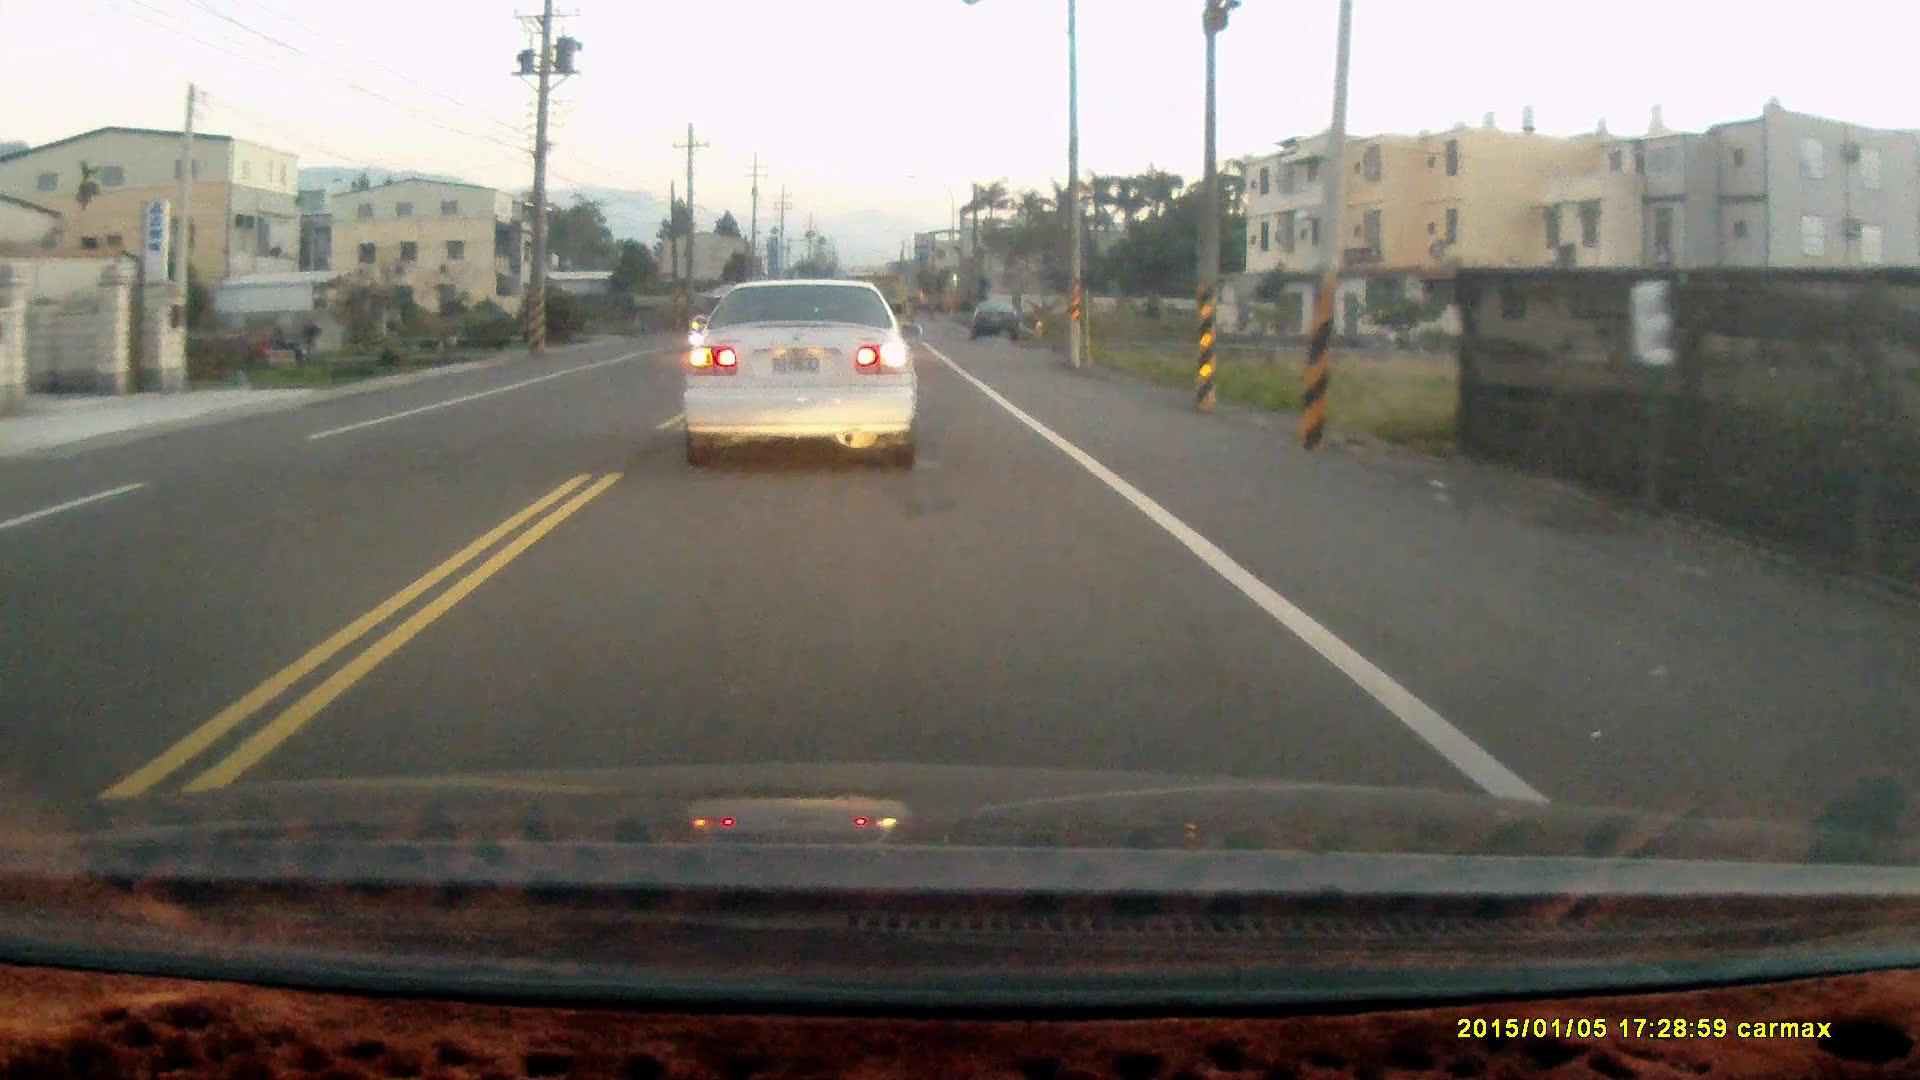vehicle: (684, 278, 924, 469), (968, 298, 1025, 344)
